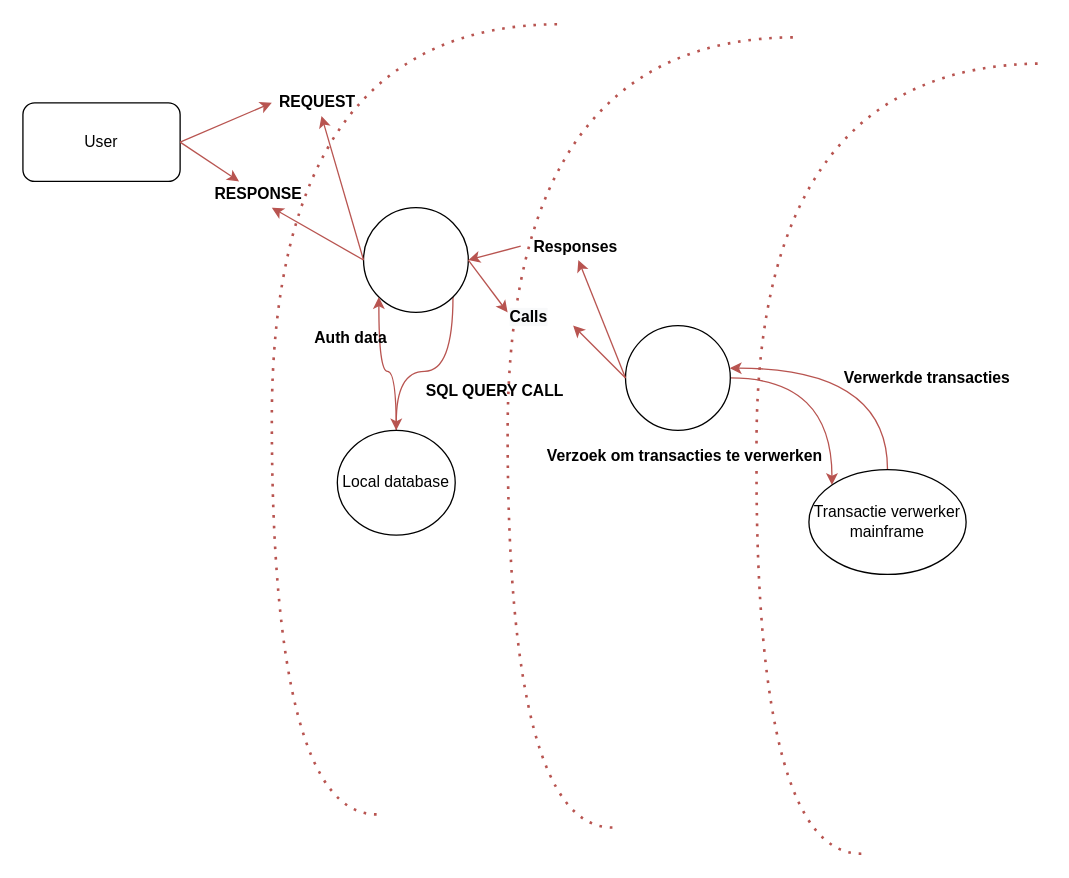
The diagram is 1069 pixels wide and 878 high, and some of its shapes have lost their labels. The box of each missing label's shape, as (x1, y1, x2, y2) in pixels:
Local Server: (362, 206, 468, 312)
NOOB server: (624, 324, 730, 430)
